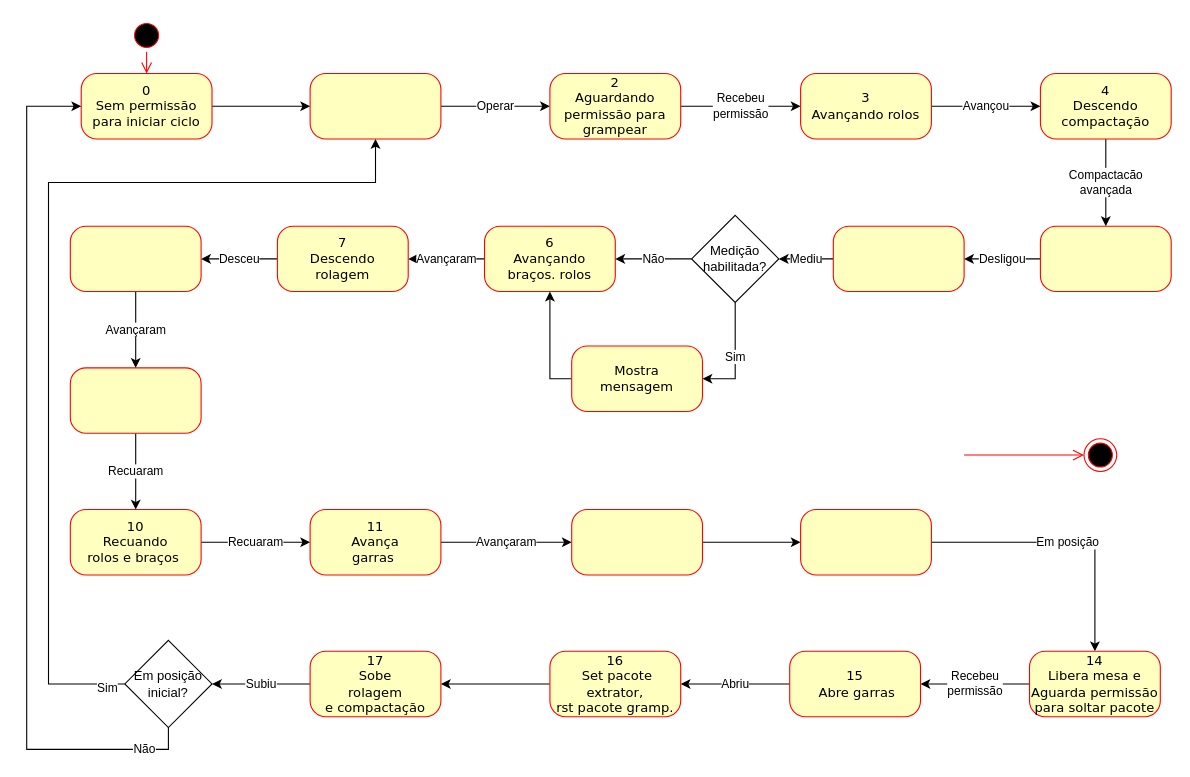
The diagram is 1190 pixels wide and 777 high, and some of its shapes have lost their labels. Each missing label, with the centre of its shape:
"1 Standby (posição inicial)" goes at point (375, 105).
"12 Seta pacote na grampeadeira" goes at point (637, 541).
"13 Recua compact. para posição intermediária" goes at point (865, 541).
"5 Medindo pacote" goes at point (898, 258).
"8 Avançando facas" goes at point (135, 258).
"9 Recuando facas" goes at point (135, 400).
"Desliga braços" goes at point (1105, 258).
